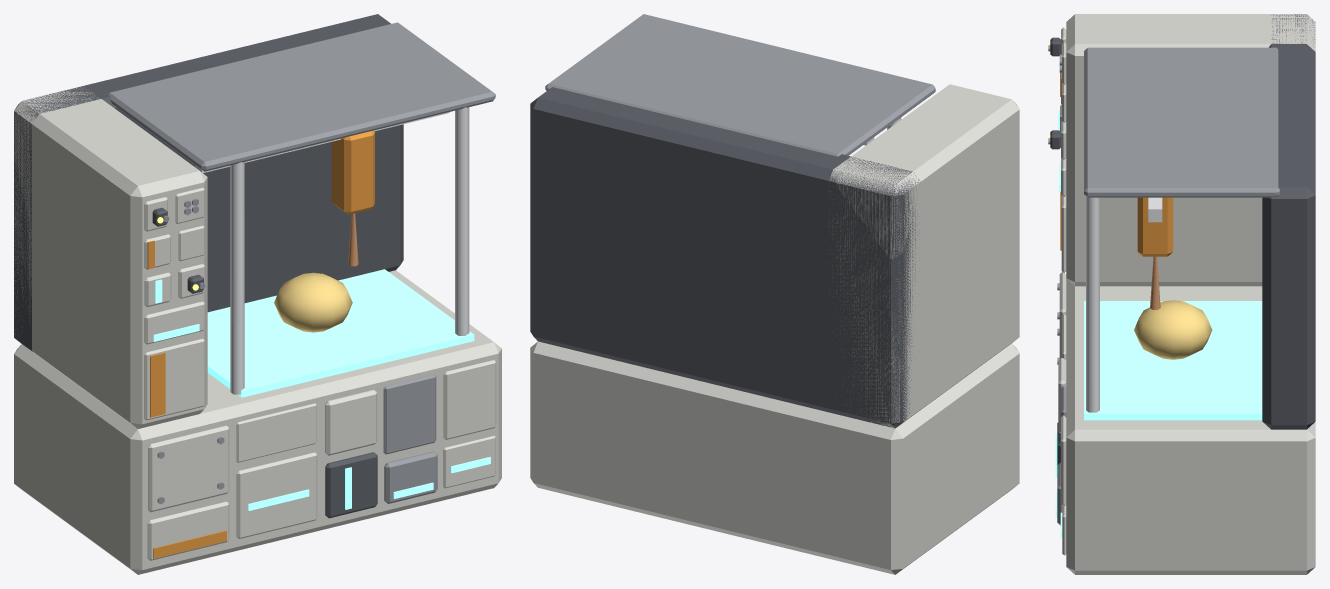
The model's file is fabricator.glb.
3 renders of one model, left to right at view 1: azimuth 30°, elevation 25°; view 2: azimuth 150°, elevation 25°; view 3: azimuth 270°, elevation 25°, orthographic.
Parts seen in each view (by area): view 1: fabricator; view 2: fabricator; view 3: fabricator.
Part boxes in pixels (x1,y1,x2,y2): fabricator: (14, 14, 501, 574); fabricator: (530, 14, 1019, 574); fabricator: (1048, 14, 1315, 574).
Size of the model in its own units: 2.4 by 2.41 by 1.5.
